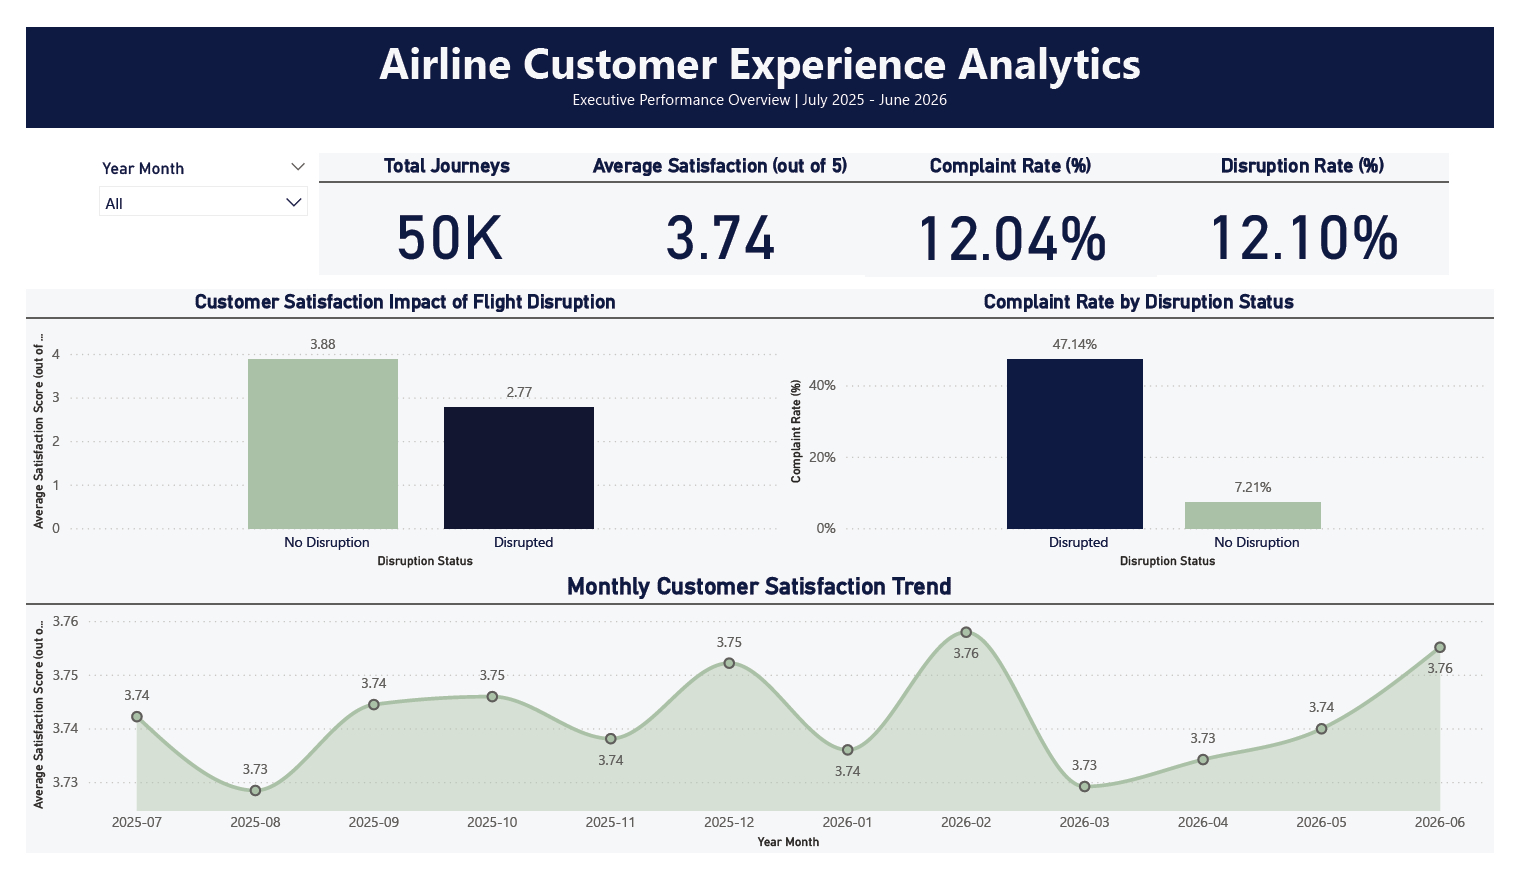

This screenshot's page, from the dashboard's own definition file:
{"tool":"powerbi","page":{"name":"Executive Overview","canvas":[1280,720],"ordinal":0},"visuals":[{"type":"textbox","box":[0,0,1280,86.8],"z":0},{"type":"card","title":"Total Journeys","fields":{"Values":["dim_date.Total Journeys"]},"box":[256,110.3,223.5,105.2],"z":2000},{"type":"card","title":"Average Satisfaction (out of 5)","fields":{"Values":["dim_date.Average Satisfaction"]},"box":[479.5,110.3,252.7,105.2],"z":3000},{"type":"card","title":"Complaint Rate (%)","fields":{"Values":["fact_customer_journey.Complaint Rate"]},"box":[732.2,110.3,253.8,106.3],"z":4000},{"type":"card","title":"Disruption Rate (%)","fields":{"Values":["dim_date.Disruption Rate"]},"box":[986.1,110.3,254.9,105.2],"z":5000},{"type":"areaChart","title":"Monthly Customer Satisfaction Trend","fields":{"Category":["dim_date.Year Month"],"Y":["Avg(fact_customer_journey.overall_satisfaction_score)"]},"box":[0,474.6,1279.7,245.4],"z":6000},{"type":"clusteredColumnChart","title":"Customer Satisfaction Impact of Flight Disruption","fields":{"Category":["fact_customer_journey.Disruption Status"],"Y":["Avg(fact_customer_journey.overall_satisfaction_score)"]},"box":[0,229.3,661.8,245.4],"z":7000},{"type":"clusteredColumnChart","title":"Complaint Rate by Disruption Status","fields":{"Category":["fact_customer_journey.Disruption Status"],"Y":["Avg(fact_customer_journey.complaint_flag)"]},"box":[660.9,229.3,619.7,245.4],"z":8000},{"type":"slicer","title":"Select a Month","fields":{"Values":["dim_date.Year Month"]},"box":[53.2,110.3,202.8,106.3],"z":9000}]}

Visuals, with their boxes in screenshot pixels (x1, y1, x2, y2), scaled from the page's 1280x720 canvas onto the 1518x879 screenshot:
textbox: (0,0,1517,106)
"Total Journeys" card: (304,135,569,263)
"Average Satisfaction (out of 5)" card: (569,135,868,263)
"Complaint Rate (%)" card: (868,135,1169,264)
"Disruption Rate (%)" card: (1169,135,1472,263)
"Monthly Customer Satisfaction Trend" areaChart: (0,579,1517,878)
"Customer Satisfaction Impact of Flight Disruption" clusteredColumnChart: (0,280,785,580)
"Complaint Rate by Disruption Status" clusteredColumnChart: (784,280,1517,580)
"Select a Month" slicer: (63,135,304,264)
